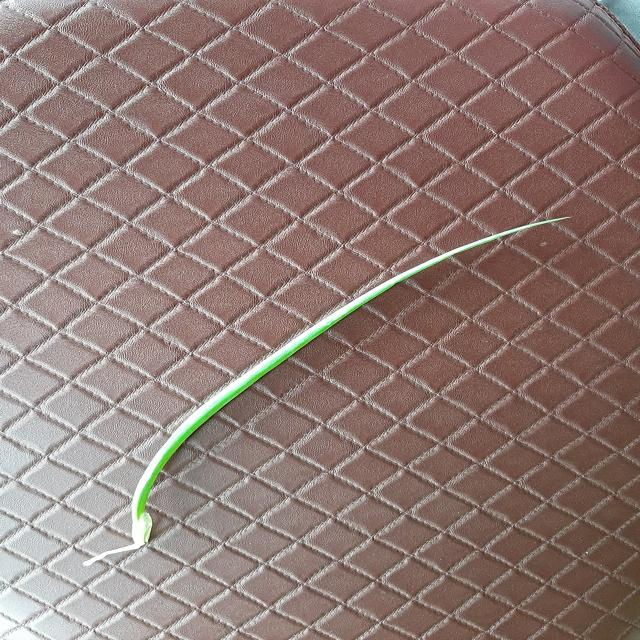onion: (81, 216, 569, 566)
